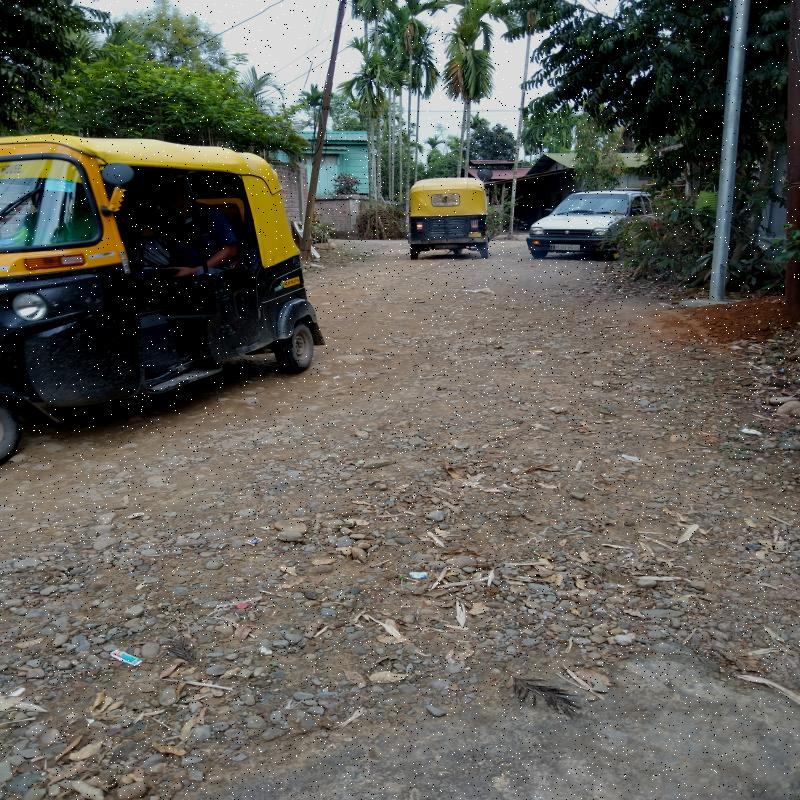auto: (0, 133, 315, 427), (406, 179, 490, 266)
